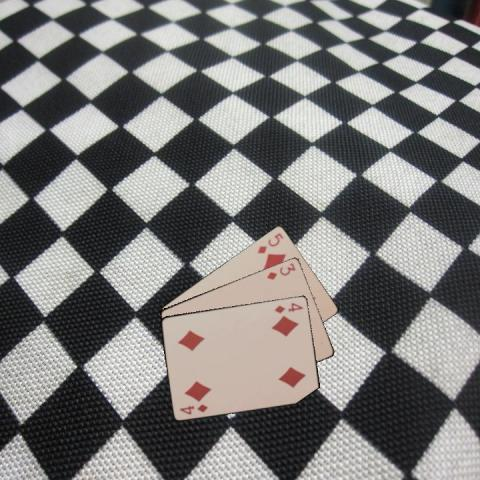3d: (264, 260, 297, 281)
4d: (271, 299, 305, 315), (177, 401, 209, 416)
5d: (254, 230, 285, 255)
